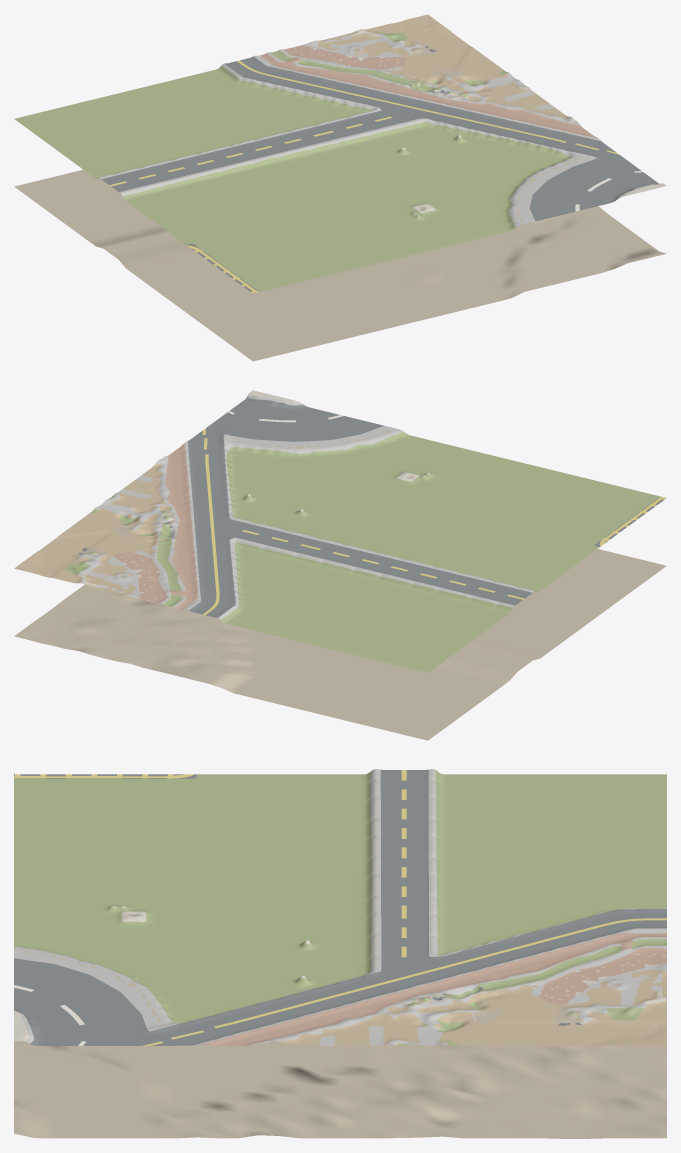
3 views of the same model, one above another, from view 1: azimuth 30°, elevation 25°; view 2: azimuth 150°, elevation 25°; view 3: azimuth 270°, elevation 25° (orthographic). The views are drawn at different scales.
Parts seen in each view (by area): view 1: s_-8_-4__grass, s_-8_-4__soil, s_-8_-4__asphalt, s_-8_-4__stone_paving, s_-8_-4__timber_deck, s_-8_-4__brick_paving, s_-8_-4__yellow_marking, s_-8_-4__paving; view 2: s_-8_-4__grass, s_-8_-4__soil, s_-8_-4__asphalt, s_-8_-4__stone_paving, s_-8_-4__timber_deck, s_-8_-4__brick_paving, s_-8_-4__yellow_marking, s_-8_-4__paving; view 3: s_-8_-4__grass, s_-8_-4__soil, s_-8_-4__asphalt, s_-8_-4__stone_paving, s_-8_-4__timber_deck, s_-8_-4__brick_paving, s_-8_-4__yellow_marking, s_-8_-4__paving.
Boxes of the visible parts, box(x1,y1,x2,y2) form: s_-8_-4__grass: box(14, 32, 571, 291); s_-8_-4__soil: box(14, 45, 666, 361); s_-8_-4__asphalt: box(101, 46, 659, 293); s_-8_-4__stone_paving: box(100, 33, 662, 227); s_-8_-4__timber_deck: box(317, 14, 582, 224); s_-8_-4__brick_paving: box(259, 45, 597, 138); s_-8_-4__yellow_marking: box(109, 60, 619, 293); s_-8_-4__paving: box(294, 25, 666, 216); s_-8_-4__grass: box(64, 432, 659, 672); s_-8_-4__soil: box(14, 475, 666, 740); s_-8_-4__asphalt: box(78, 396, 666, 617); s_-8_-4__stone_paving: box(77, 393, 534, 619); s_-8_-4__timber_deck: box(14, 428, 396, 594); s_-8_-4__brick_paving: box(113, 443, 198, 609); s_-8_-4__yellow_marking: box(202, 428, 665, 615); s_-8_-4__paving: box(48, 390, 429, 600); s_-8_-4__grass: box(14, 770, 666, 1045); s_-8_-4__soil: box(14, 906, 666, 1138); s_-8_-4__asphalt: box(14, 769, 666, 1045); s_-8_-4__stone_paving: box(14, 769, 666, 1045); s_-8_-4__timber_deck: box(14, 949, 666, 1046); s_-8_-4__brick_paving: box(201, 932, 666, 1045); s_-8_-4__yellow_marking: box(14, 770, 666, 1045); s_-8_-4__paving: box(14, 906, 666, 1042).
Size of the model in its own units: 128 by 22.05 by 128.
